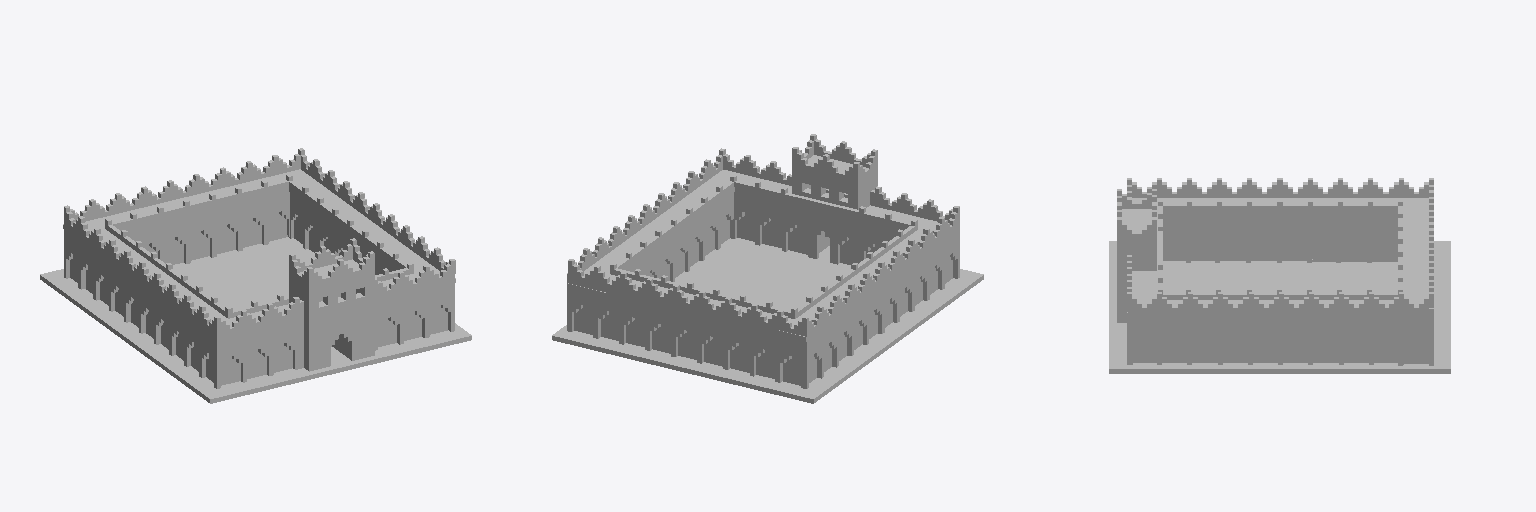
3 views of the same model, side by side, from view 1: azimuth 30°, elevation 25°; view 2: azimuth 150°, elevation 25°; view 3: azimuth 270°, elevation 25° (orthographic).
Visible parts, largest first — view 1: group[number redacted], group[number redacted], group[number redacted], group[number redacted], group[number redacted], group[number redacted], group[number redacted], group[number redacted], group[number redacted], group[number redacted], group[number redacted], group[number redacted] (+27 smaller); view 2: group[number redacted], group[number redacted], group[number redacted], group[number redacted], group[number redacted], group[number redacted], group[number redacted], group[number redacted], group[number redacted], group[number redacted], group[number redacted], group[number redacted] (+28 smaller); view 3: group[number redacted], group[number redacted], group[number redacted], group[number redacted], group[number redacted], group[number redacted], group[number redacted], group[number redacted], group[number redacted], group[number redacted], group[number redacted], group[number redacted] (+16 smaller).
Boxes of the visible parts, box(x1,y1,x2,y2) form: group[number redacted]: box(64, 230, 198, 345); group[number redacted]: box(289, 180, 455, 288); group[number redacted]: box(85, 169, 314, 231); group[number redacted]: box(63, 220, 224, 327); group[number redacted]: box(290, 192, 395, 274); group[number redacted]: box(112, 180, 288, 228); group[number redacted]: box(216, 265, 282, 293); group[number redacted]: box(75, 165, 300, 221); group[number redacted]: box(185, 377, 253, 403); group[number redacted]: box(199, 275, 454, 340); group[number redacted]: box(40, 269, 103, 310); group[number redacted]: box(293, 319, 330, 369); group[number redacted]: box(590, 170, 748, 271); group[number redacted]: box(802, 243, 941, 359); group[number redacted]: box(775, 231, 941, 341); group[number redacted]: box(627, 192, 733, 274); group[number redacted]: box(735, 176, 959, 241); group[number redacted]: box(770, 362, 857, 403); group[number redacted]: box(567, 267, 801, 333); group[number redacted]: box(734, 180, 917, 230); group[number redacted]: box(567, 273, 801, 335); group[number redacted]: box(691, 258, 757, 286); group[number redacted]: box(735, 269, 802, 297); group[number redacted]: box(717, 240, 782, 268); group[number redacted]: box(1128, 317, 1398, 335); group[number redacted]: box(1163, 216, 1397, 233); group[number redacted]: box(1398, 198, 1433, 317); group[number redacted]: box(1162, 198, 1415, 215); group[number redacted]: box(1313, 234, 1397, 261); group[number redacted]: box(1133, 336, 1227, 362); group[number redacted]: box(1128, 306, 1428, 312); group[number redacted]: box(1163, 204, 1397, 210); group[number redacted]: box(1127, 298, 1397, 316); group[number redacted]: box(1162, 292, 1397, 299); group[number redacted]: box(1132, 192, 1428, 197); group[number redacted]: box(1361, 348, 1450, 373).
Size of the model in its own units: 4.8 by 1.88 by 5.42.